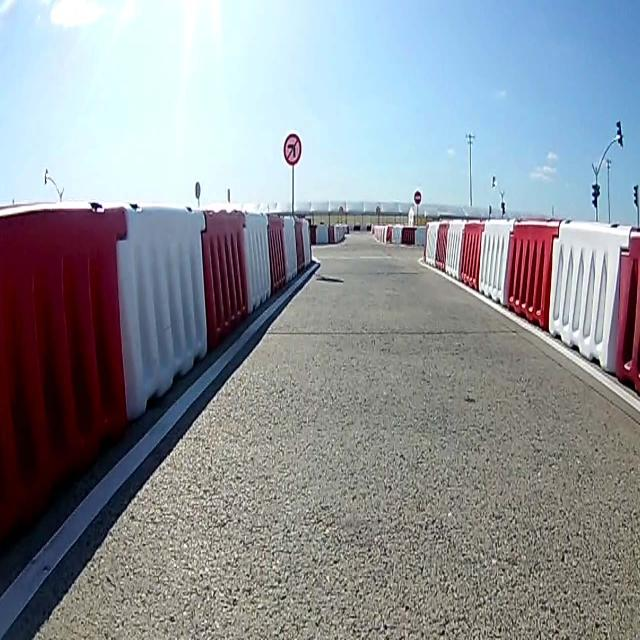girisyok: (414, 190, 422, 204)
soladonulmez: (283, 133, 302, 166)
